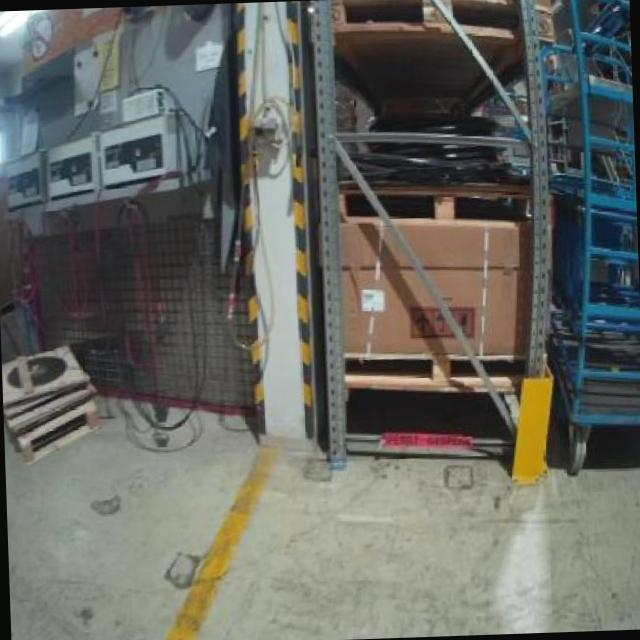pallet: (314, 334, 560, 403), (332, 163, 546, 234)
